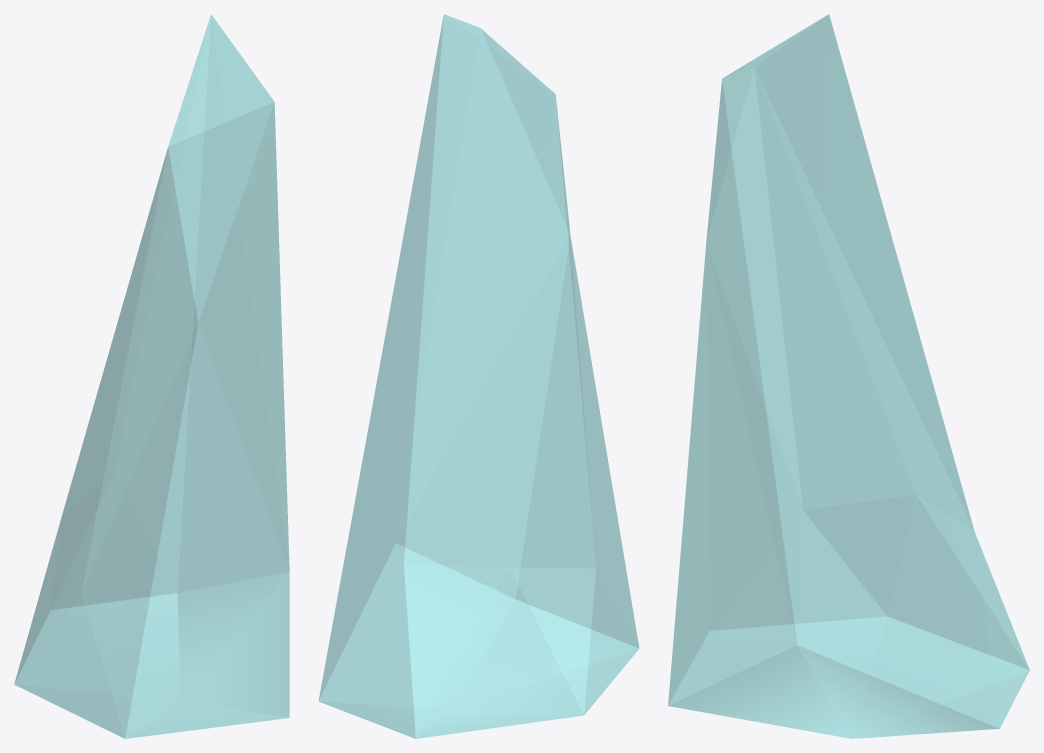
Rendered from Rock_Large_Ice_03.fbx.
3 renders of one model, left to right at view 1: azimuth 30°, elevation 25°; view 2: azimuth 150°, elevation 25°; view 3: azimuth 270°, elevation 25°, orthographic. The views are drawn at different scales.
Parts seen in each view (by area): view 1: Rock_Large_Ice_03; view 2: Rock_Large_Ice_03; view 3: Rock_Large_Ice_03.
Part boxes in pixels (bbox=[...]): Rock_Large_Ice_03: bbox=[14, 14, 289, 738]; Rock_Large_Ice_03: bbox=[318, 14, 639, 738]; Rock_Large_Ice_03: bbox=[668, 14, 1029, 738].
Size of the model in its own units: 1202 by 3406 by 1520.
